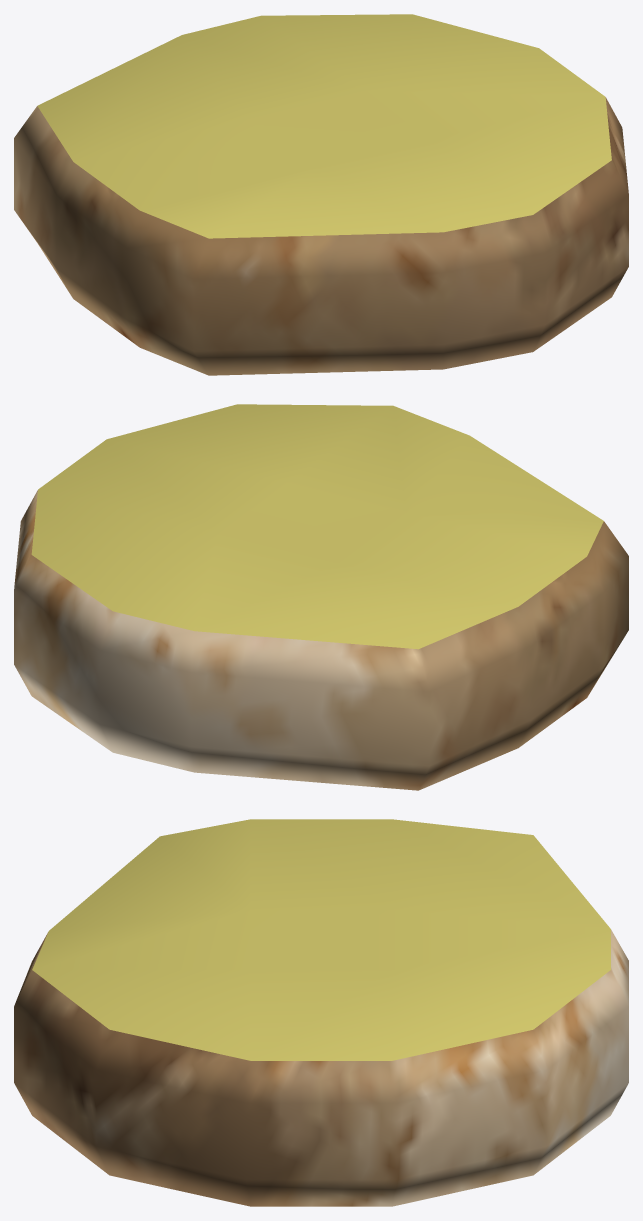
File: ChoppedGinger2.fbx
3 renders of one model, top to bottom at view 1: azimuth 30°, elevation 25°; view 2: azimuth 150°, elevation 25°; view 3: azimuth 270°, elevation 25°, orthographic. The views are drawn at different scales.
Visible parts, largest first — view 1: ChoppedGinger2; view 2: ChoppedGinger2; view 3: ChoppedGinger2.
Boxes of the visible parts, x1,y1,x2,y2 form: ChoppedGinger2: (14,14,628,375); ChoppedGinger2: (14,404,628,790); ChoppedGinger2: (14,819,628,1206).
Bounding box in the file's own units: 3.45 × 0.9347 × 3.49.
1 material, 1 textured.
